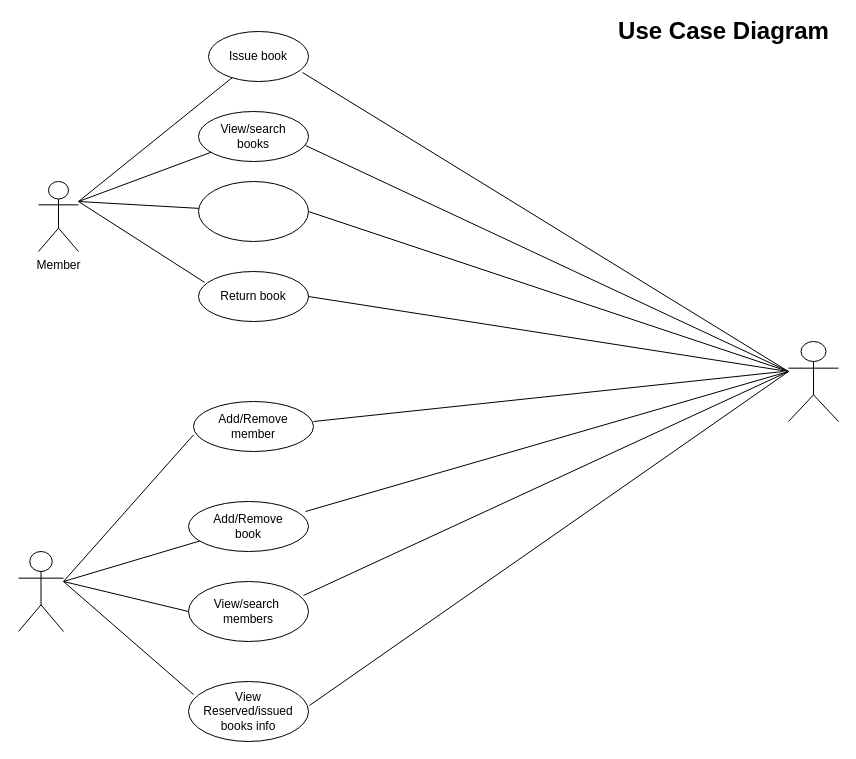
Image size: 856x759. Some labels were removed from this diagram. Here are the shapes that lost their labels. From the top down, the box of each, then its label:
(198, 180, 308, 242): Reserve book
(788, 340, 838, 422): System
(18, 550, 64, 632): Librarian
